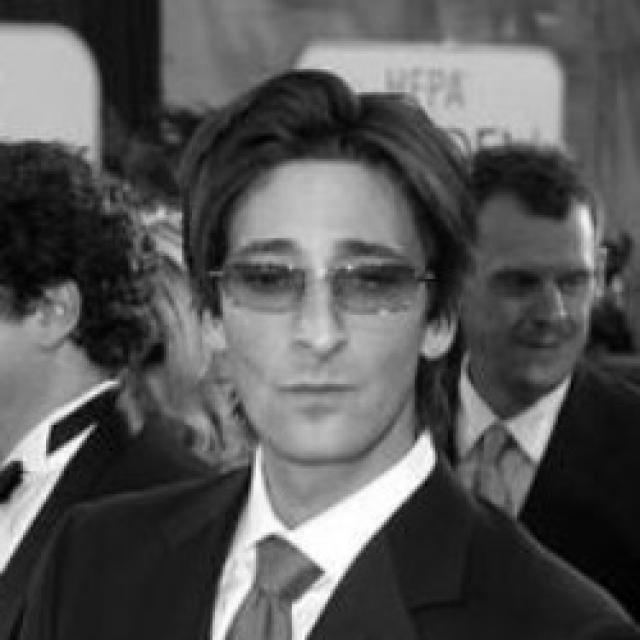fake: (218, 249, 425, 315)
real: (212, 157, 435, 473), (457, 142, 612, 390), (491, 261, 595, 304)
